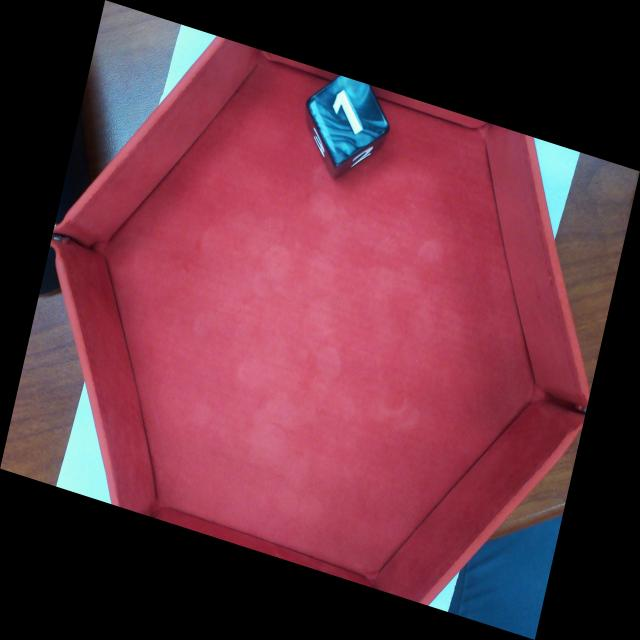dice: (302, 58, 394, 170)
